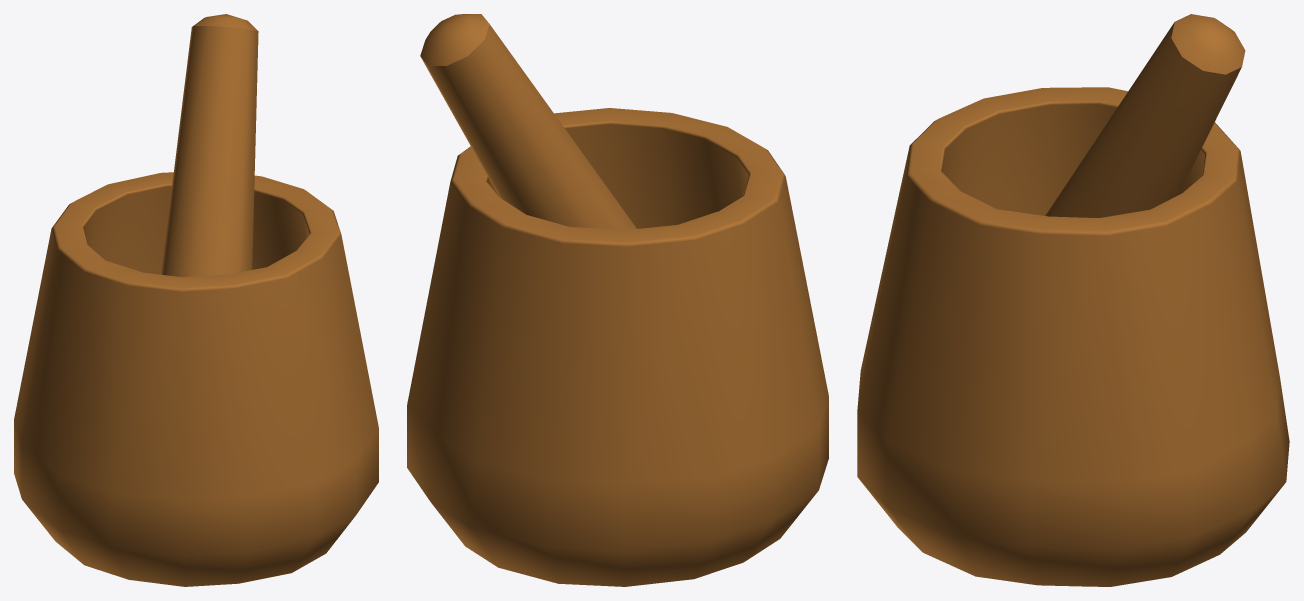
File: mortar.fbx
The picture shows the model from 3 angles, left to right: view 1: azimuth 30°, elevation 25°; view 2: azimuth 150°, elevation 25°; view 3: azimuth 270°, elevation 25°; orthographic projection. The views are drawn at different scales.
Parts seen in each view (by area): view 1: pCylinder1, pCylinder2; view 2: pCylinder1, pCylinder2; view 3: pCylinder1, pCylinder2.
Part boxes in pixels (x1,y1,x2,y2): pCylinder1: (14,172,378,586); pCylinder2: (161,14,258,277); pCylinder1: (407,108,828,586); pCylinder2: (420,14,636,229); pCylinder1: (857,87,1289,586); pCylinder2: (1045,14,1245,217).
Size of the model in its own units: 1.84 by 2.7 by 1.86.
